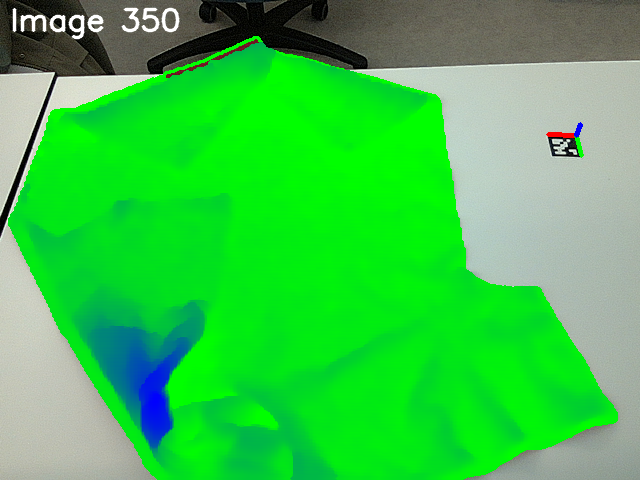V: (315, 97, 385, 163), (144, 128, 208, 177), (197, 178, 249, 228)
